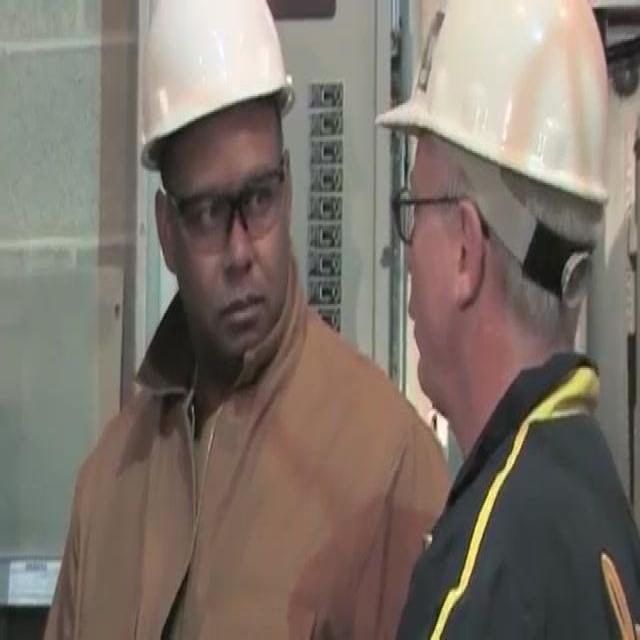Safety-Helmet: (375, 2, 630, 235), (129, 2, 298, 186)
